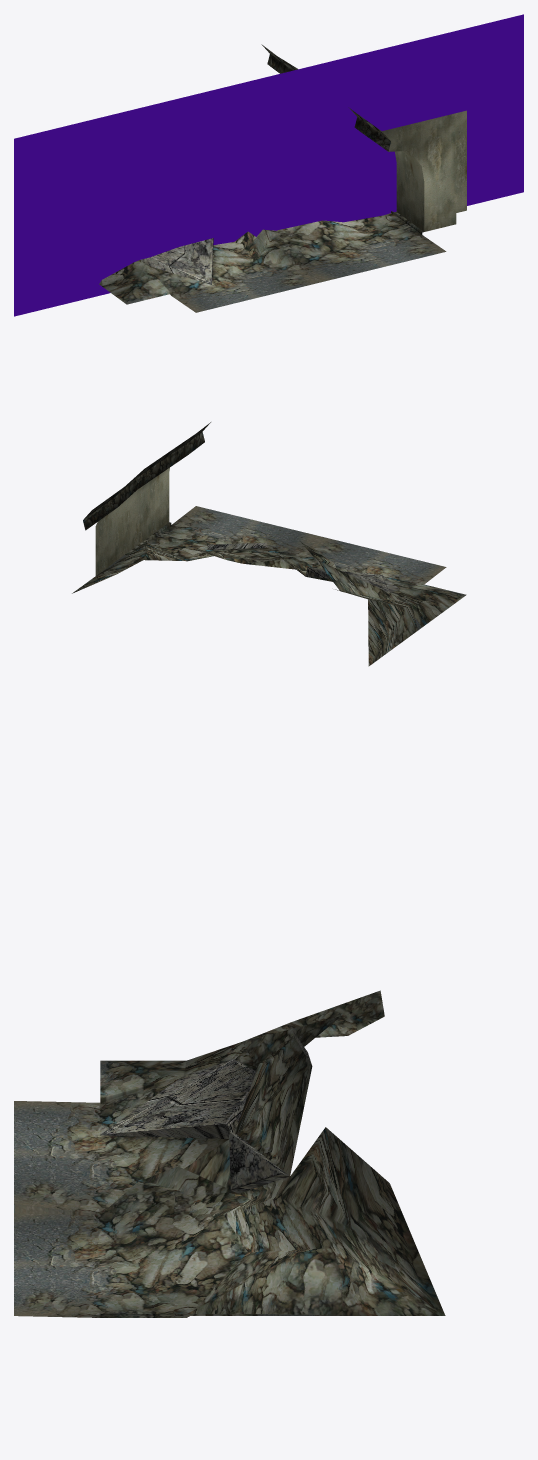
The model's file is M10_Z01_13_BombSite.glb.
3 renders of one model, top to bottom at view 1: azimuth 30°, elevation 25°; view 2: azimuth 150°, elevation 25°; view 3: azimuth 270°, elevation 25°, orthographic. The views are drawn at different scales.
Visible parts, largest first — view 1: M10_Z01_13_BOMBSITE; view 2: M10_Z01_13_BOMBSITE; view 3: M10_Z01_13_BOMBSITE.
Part boxes in pixels (bbox=[...]): M10_Z01_13_BOMBSITE: bbox=[14, 14, 523, 316]; M10_Z01_13_BOMBSITE: bbox=[72, 422, 466, 666]; M10_Z01_13_BOMBSITE: bbox=[14, 990, 445, 1317].
Size of the model in its own units: 48 by 16 by 23.64.
5 materials, 4 textured.
